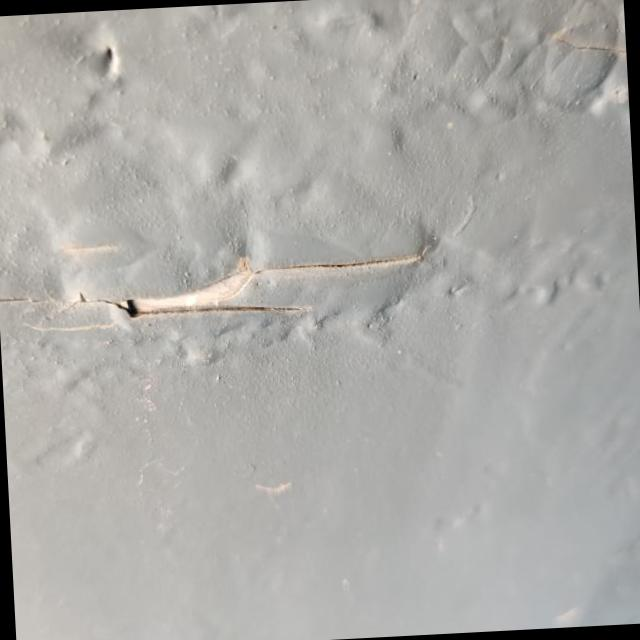Crack: (67, 246, 430, 319)
